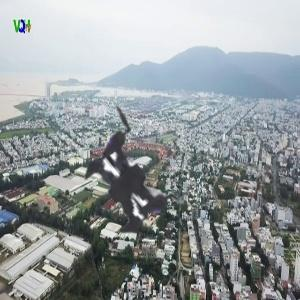drone: (15, 60, 254, 299)
